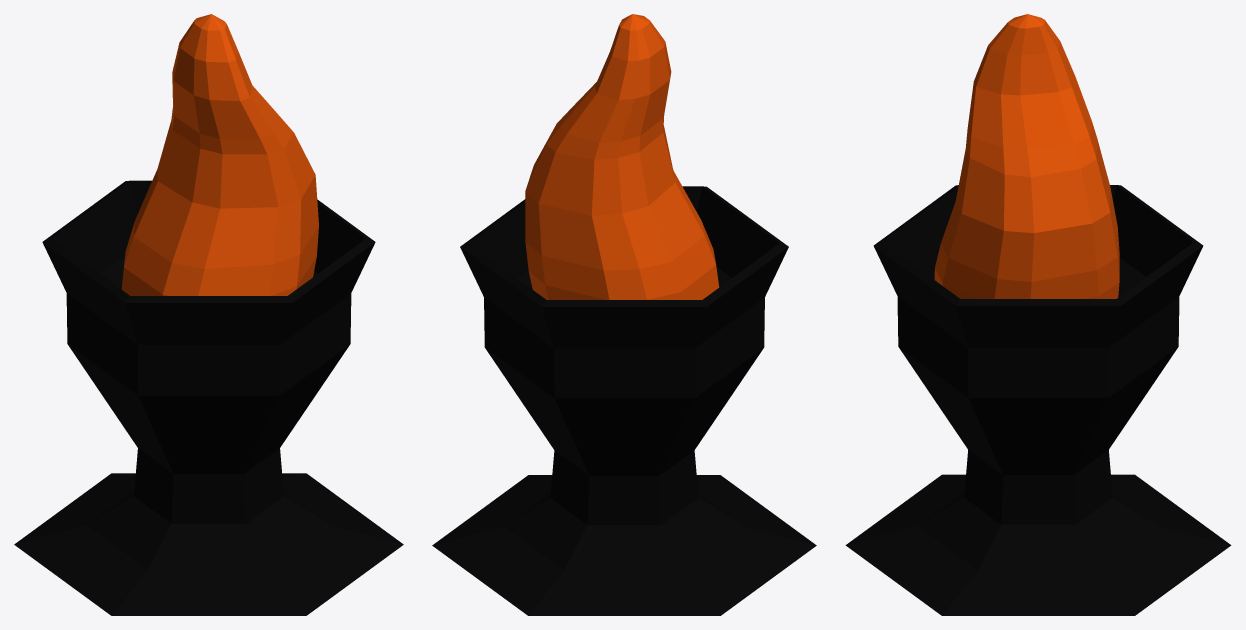
The model's file is Torch_05.fbx.
3 views of the same model, side by side, from view 1: azimuth 30°, elevation 25°; view 2: azimuth 150°, elevation 25°; view 3: azimuth 270°, elevation 25° (orthographic).
Parts seen in each view (by area): view 1: Torch_05; view 2: Torch_05; view 3: Torch_05.
Part boxes in pixels (x1=…): Torch_05: x1=14, y1=14, x2=403, y2=615; Torch_05: x1=432, y1=14, x2=816, y2=615; Torch_05: x1=845, y1=14, x2=1231, y2=615.
Size of the model in its own units: 39.38 by 68.88 by 45.47.
